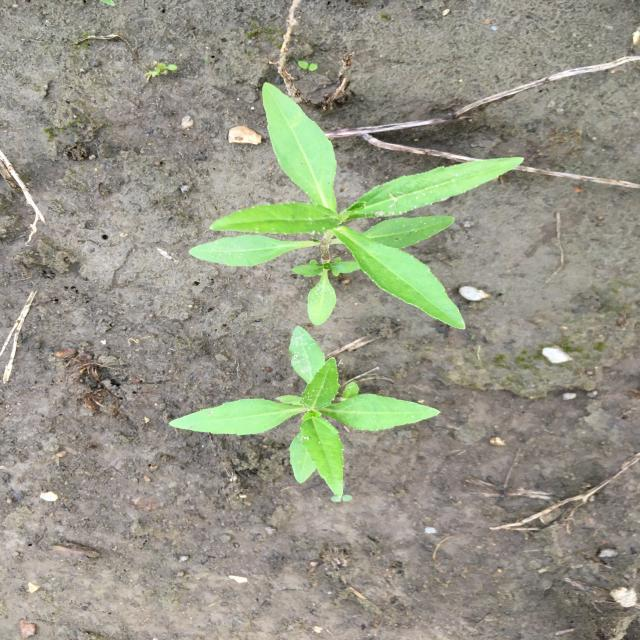Eclipta: (186, 81, 526, 332), (167, 324, 443, 500)
